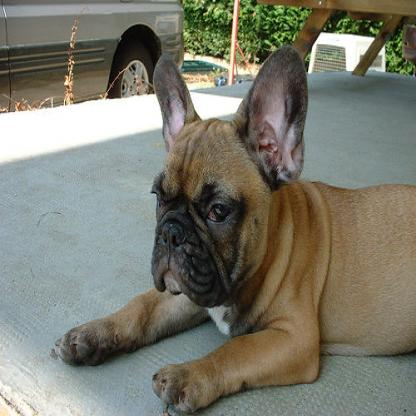French_bulldog: (52, 43, 414, 414)
